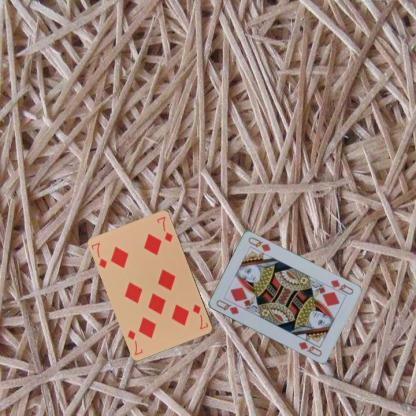7d: (89, 240, 109, 270), (190, 302, 210, 331)
Qd: (324, 277, 354, 297), (213, 297, 240, 316)
